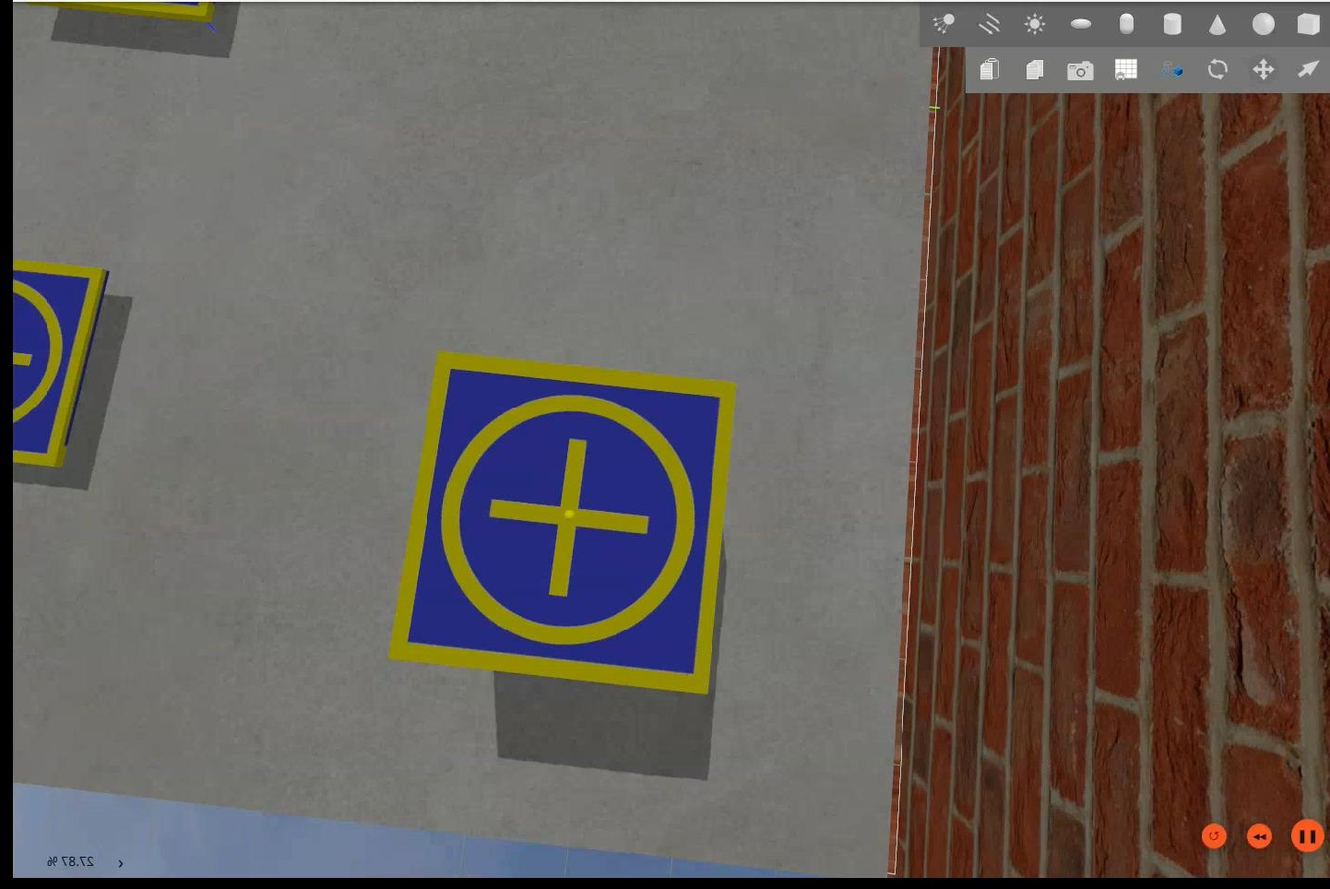small_base: (382, 356, 742, 702), (12, 256, 109, 476)
